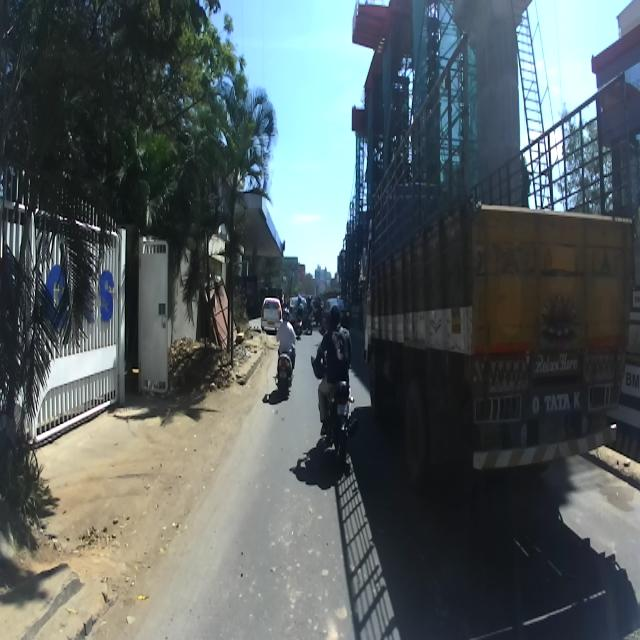gate ahead at: (134, 239, 174, 402)
motorcycle ahead at: (317, 370, 364, 456), (268, 348, 302, 397)
truck ahead at: (370, 27, 640, 502)
